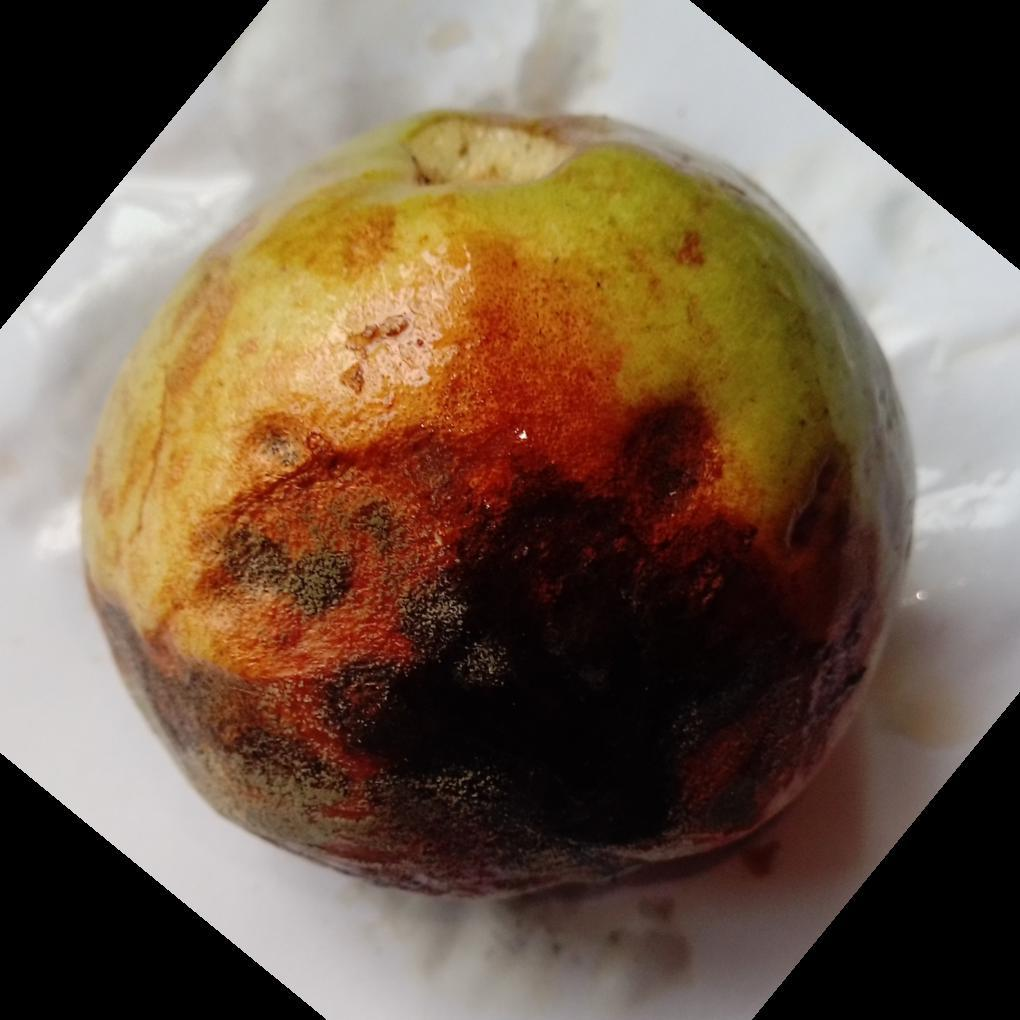FreshOrange: (77, 109, 916, 904)
